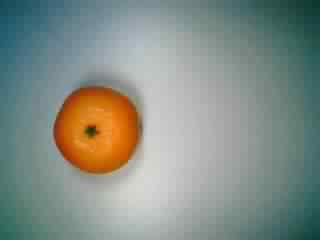orange: (48, 79, 146, 178)
